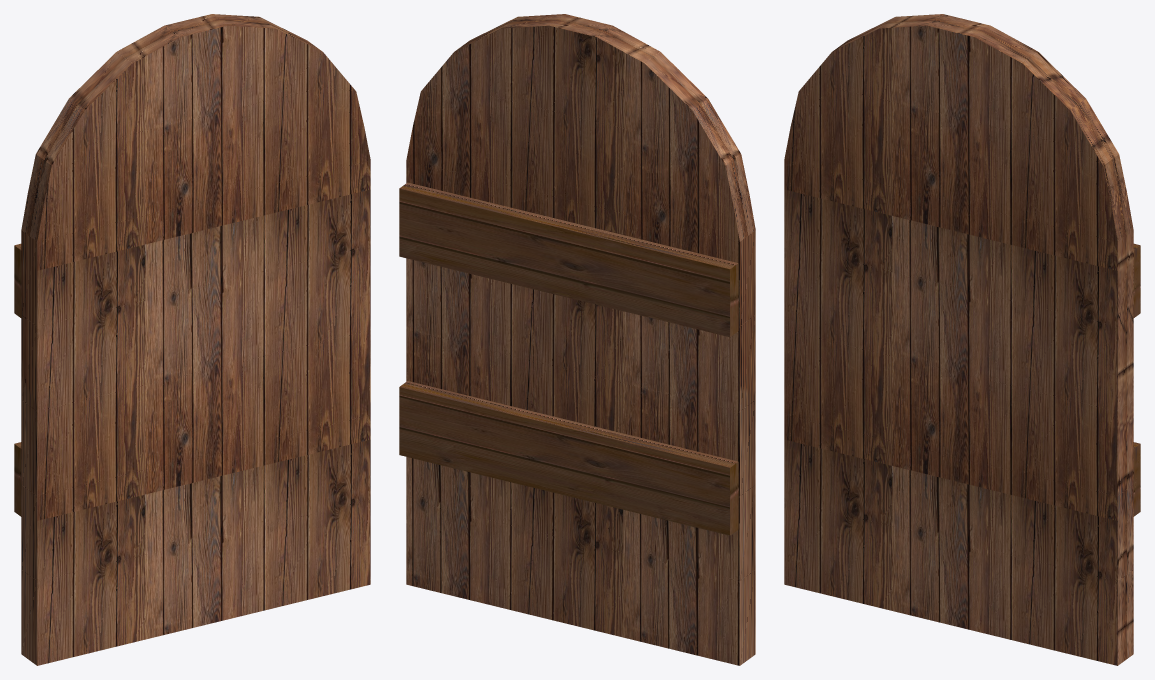
File: Door.fbx
3 renders of one model, left to right at view 1: azimuth 30°, elevation 25°; view 2: azimuth 150°, elevation 25°; view 3: azimuth 330°, elevation 25°, orthographic.
Visible parts, largest first — view 1: pCube1, pCube3, pCube2; view 2: pCube1, pCube3, pCube2; view 3: pCube1, pCube3, pCube2.
Part boxes in pixels (x1=…): pCube1: x1=21, y1=14, x2=370, y2=665; pCube3: x1=14, y1=442, x2=21, y2=516; pCube2: x1=14, y1=243, x2=21, y2=317; pCube1: x1=406, y1=14, x2=755, y2=665; pCube3: x1=399, y1=381, x2=738, y2=535; pCube2: x1=399, y1=182, x2=738, y2=336; pCube1: x1=784, y1=14, x2=1133, y2=665; pCube3: x1=1133, y1=442, x2=1140, y2=516; pCube2: x1=1133, y1=243, x2=1140, y2=317.
Bounding box in the file's own units: 5.14 × 8.74 × 0.6508.
3 materials, 3 textured.
